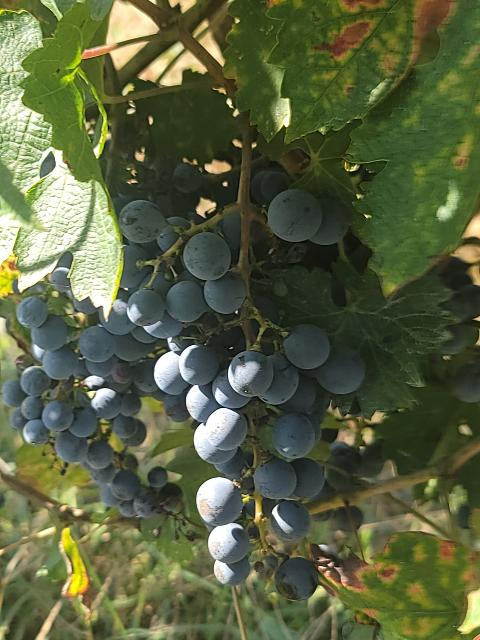grapes: (154, 330, 329, 600), (2, 289, 166, 518)
